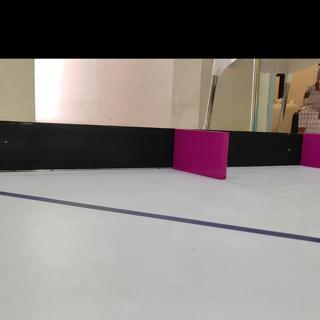xparking: (176, 129, 226, 178), (305, 135, 320, 169)
